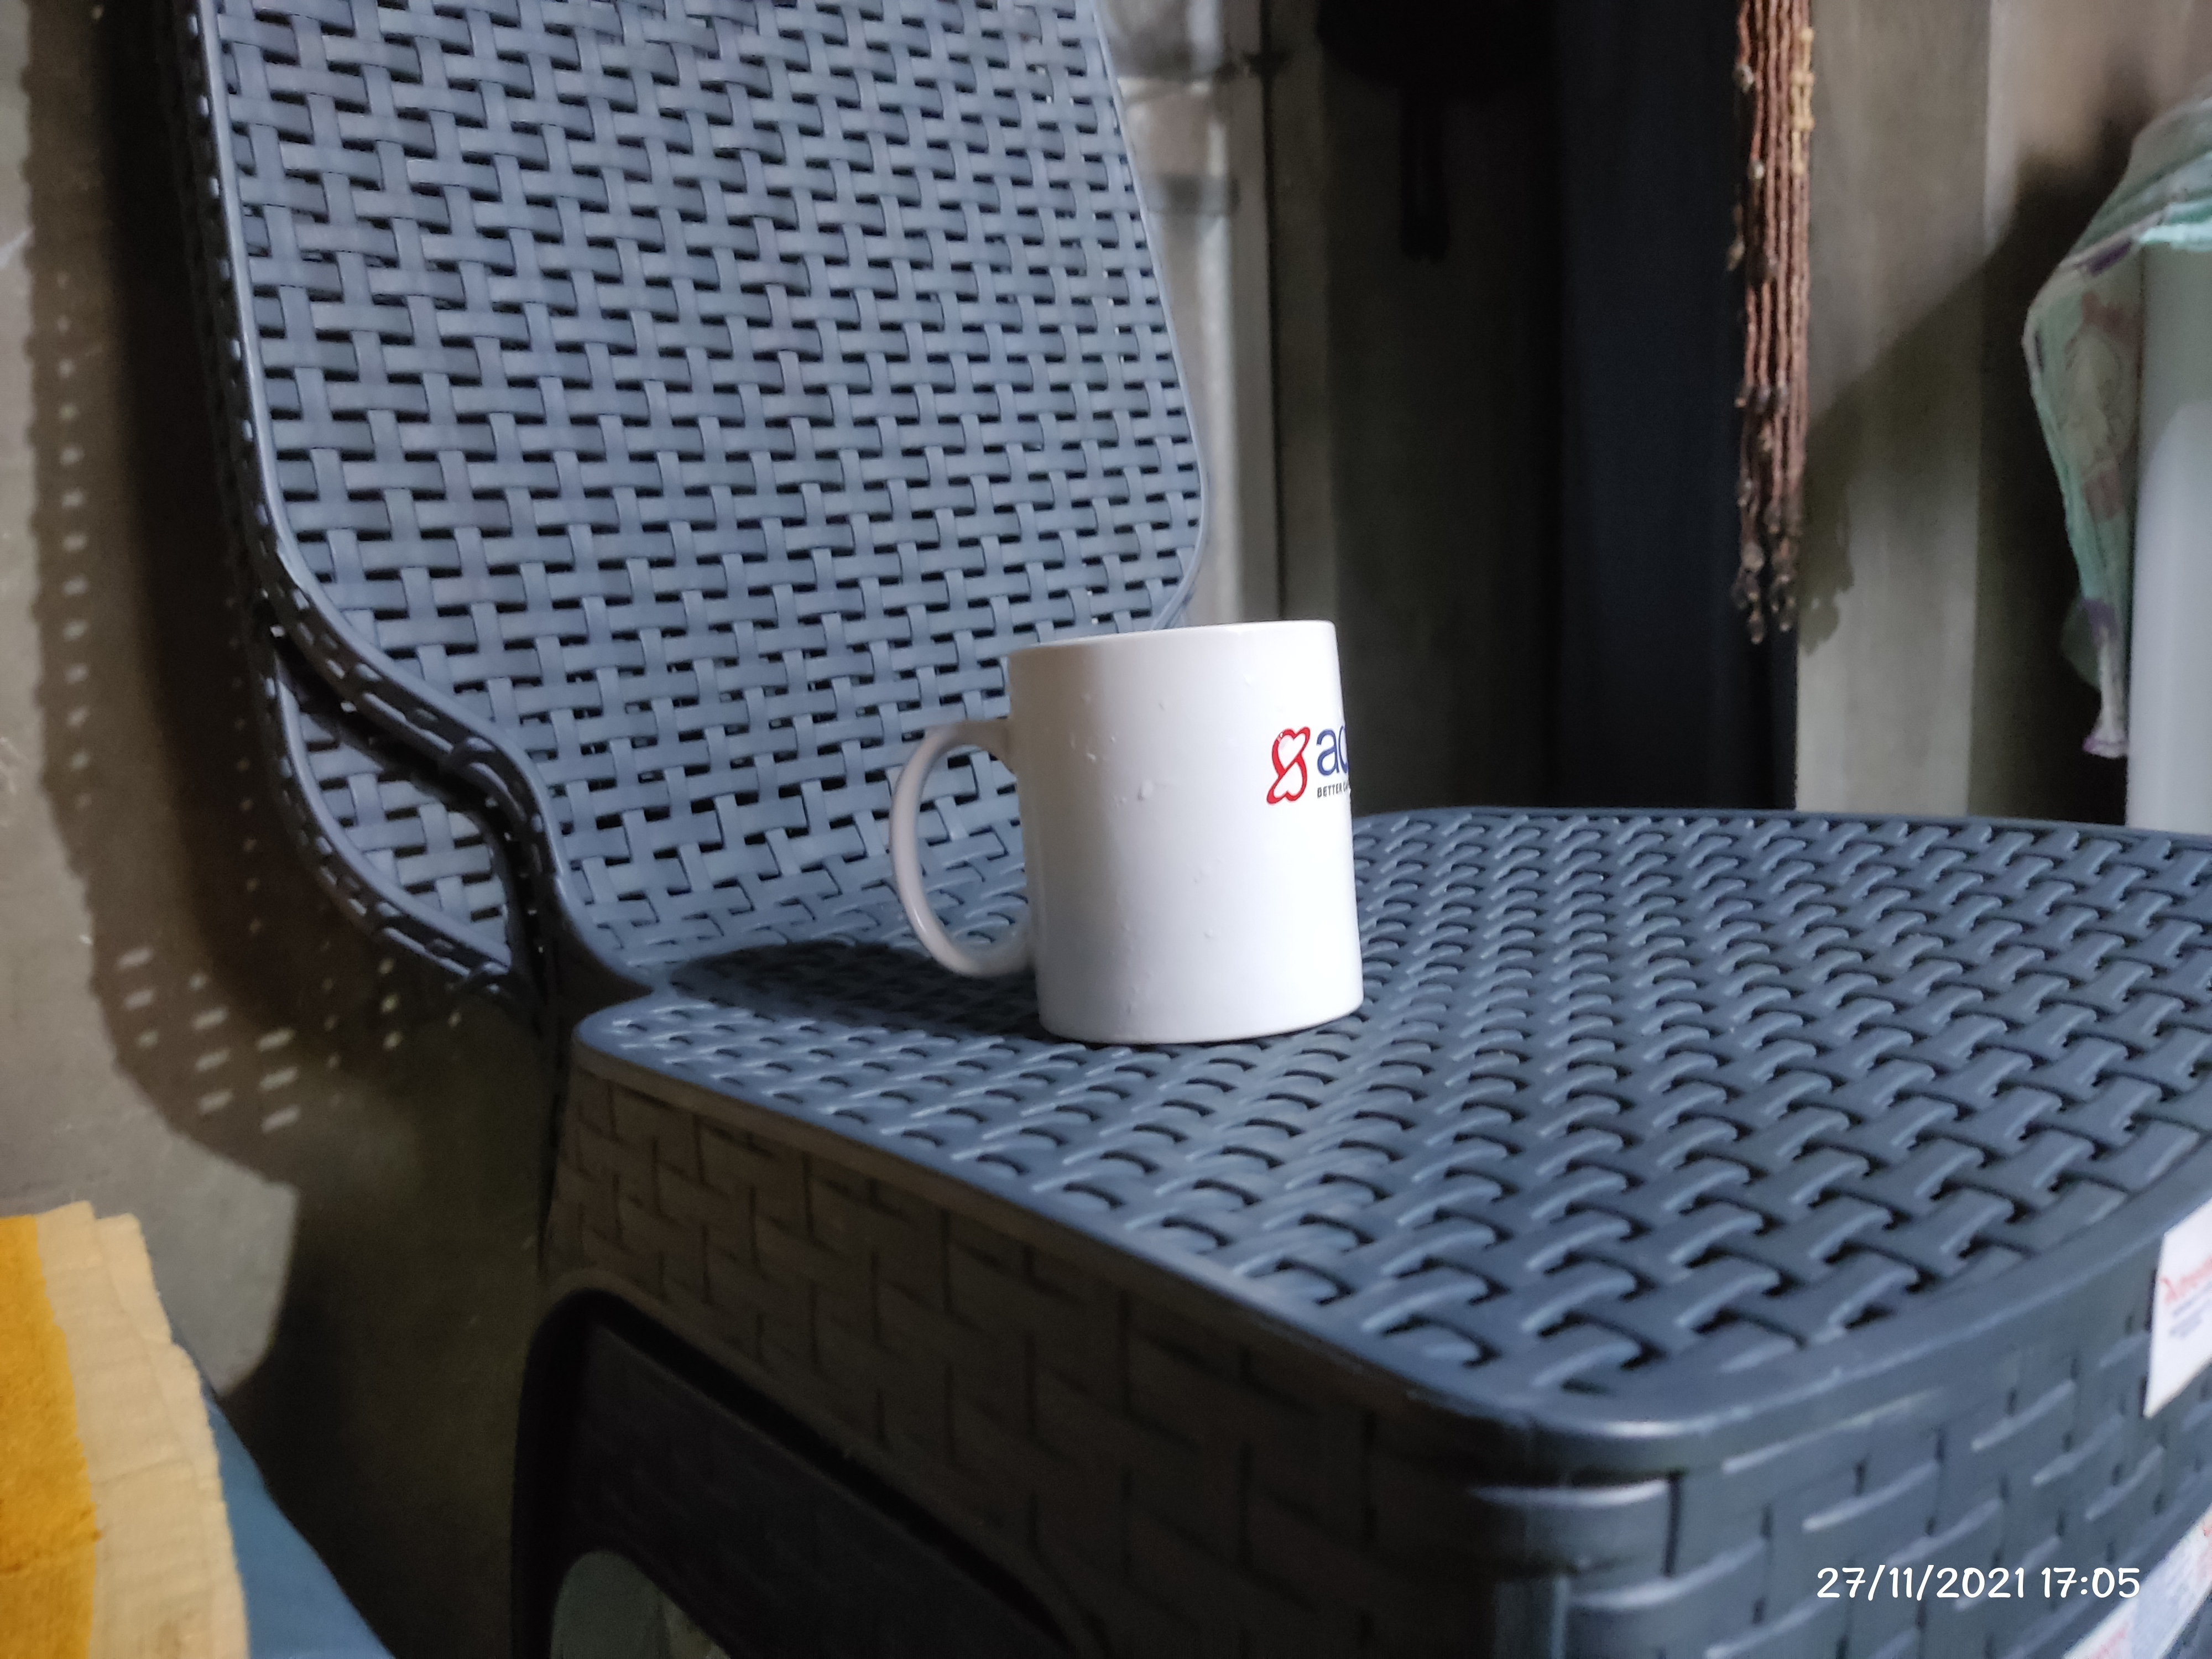mug: (904, 617, 1371, 1023)
